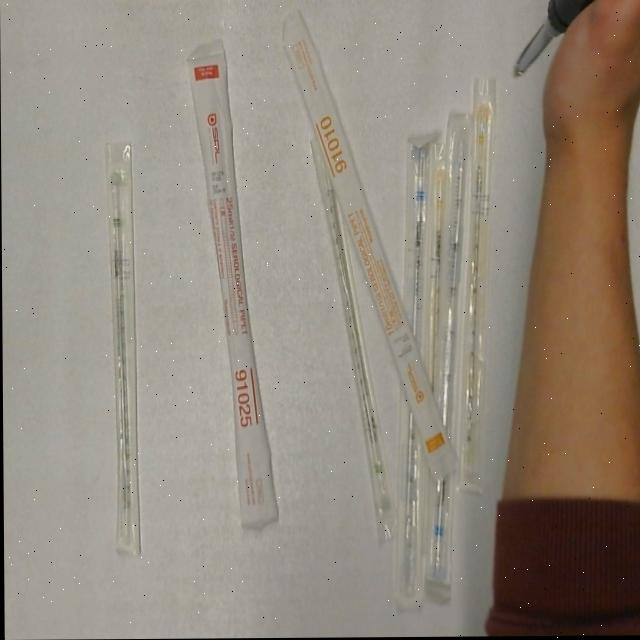Serelogical Pipet 1 mL - Sealed: (451, 70, 502, 496)
Serelogical Pipet 10 mL - Sealed: (278, 6, 459, 484)
Serelogical Pipet 2 mL - Sealed: (308, 133, 400, 549), (103, 130, 141, 561)
Serelogical Pipet 25 mL - Sealed: (185, 32, 282, 537)
Serelogical Pipet 5 mL - Sealed: (388, 124, 446, 615), (421, 105, 477, 592)
Single Channel Pipettor: (510, 0, 608, 86)
